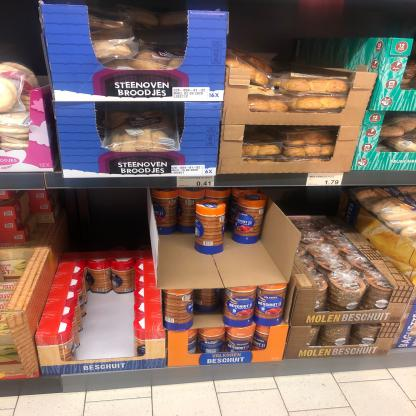prtg: (307, 173, 346, 187), (178, 177, 216, 189)
